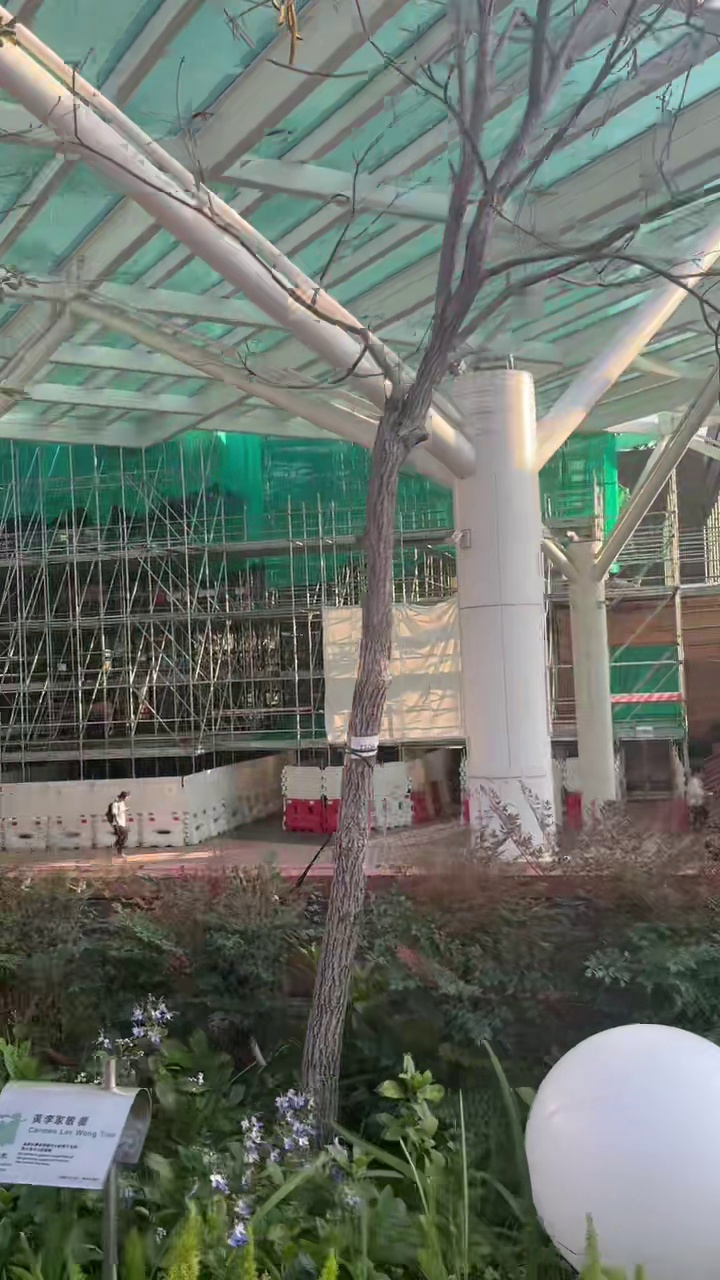Tabebuia chrysantha: (237, 0, 649, 1135)
